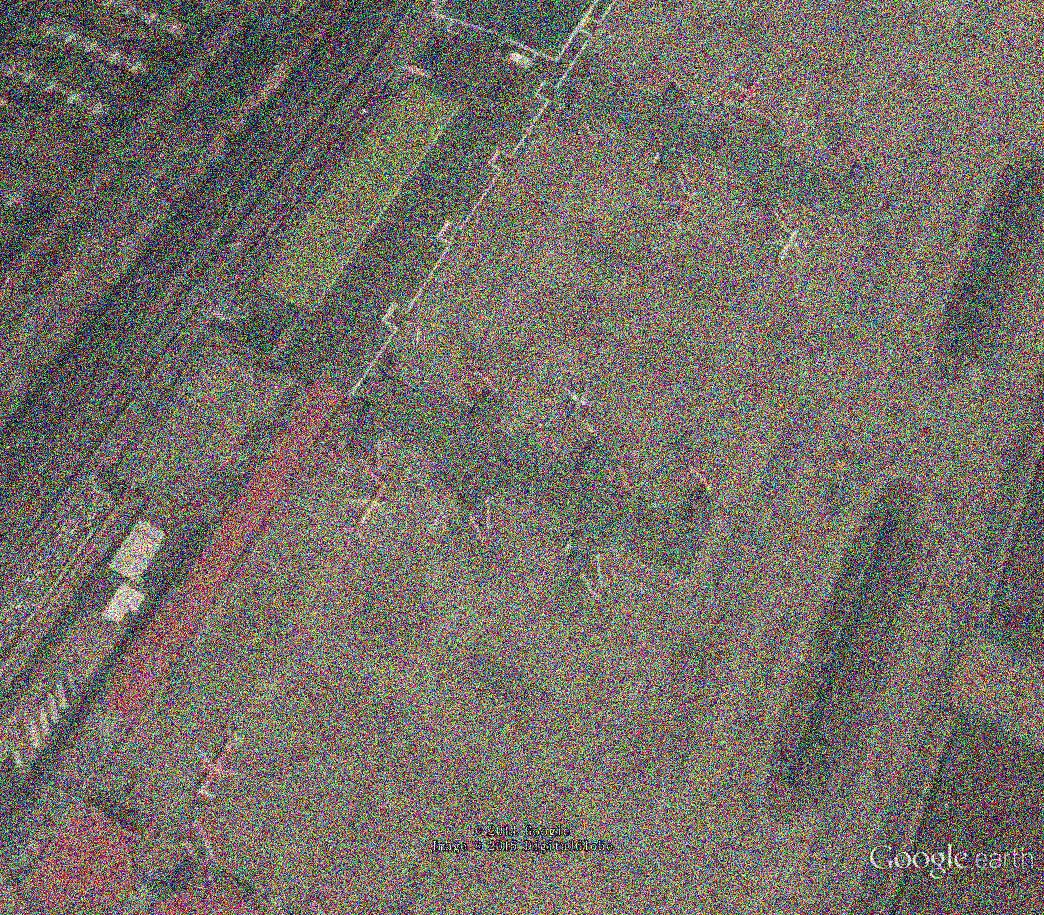aircraft: (188, 723, 252, 804), (337, 477, 398, 549), (756, 222, 818, 276), (559, 370, 613, 424), (656, 187, 710, 236), (731, 69, 778, 113)
